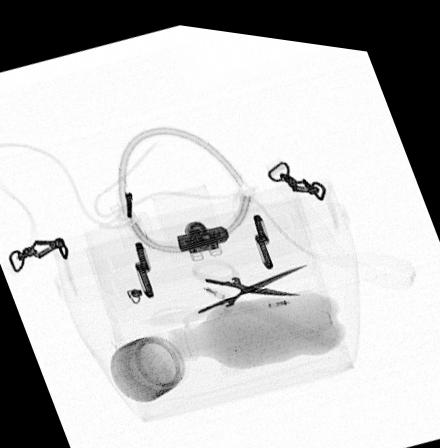Scissors: (182, 250, 310, 328)
